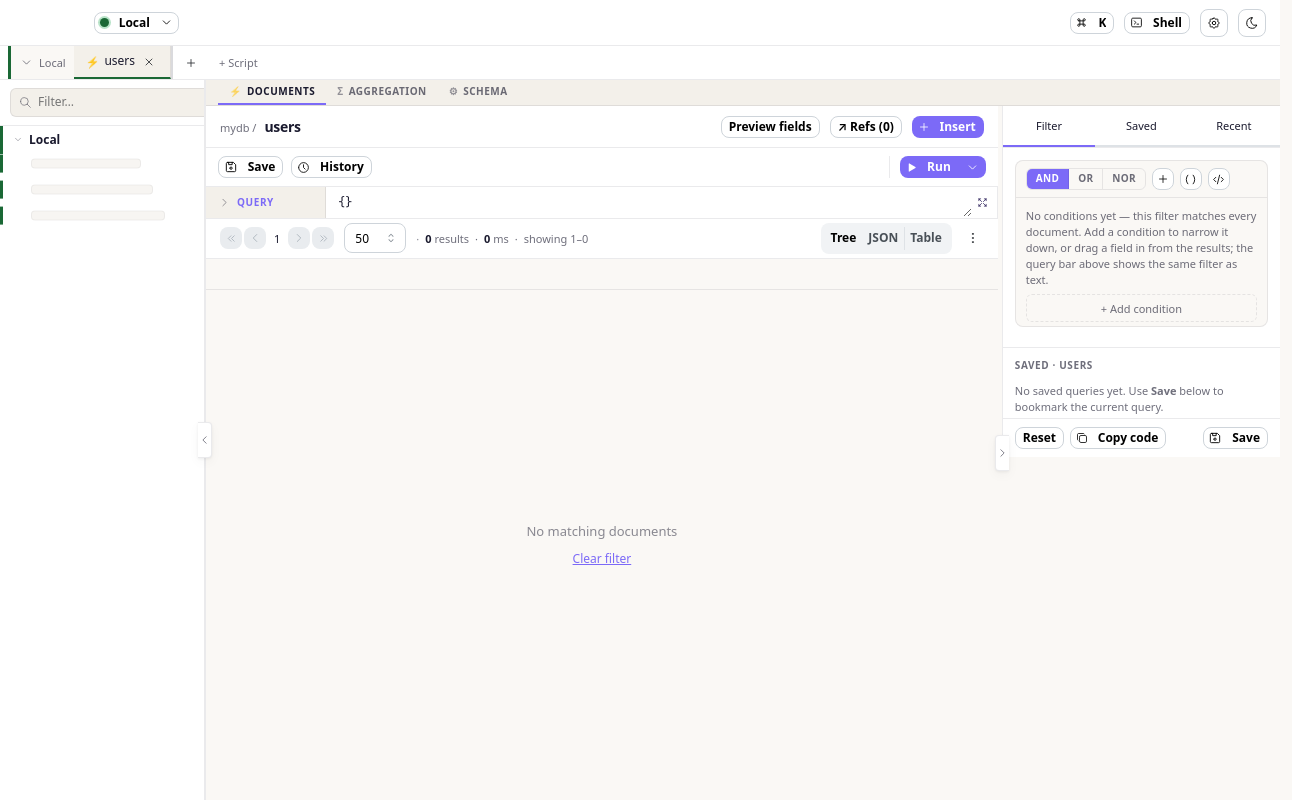
Test case: Filter drawer — pending-row lifecycle (W13 §5, §11) › "+ Raw" adds a row that persists on screen and does not change queryRaw
The width and height of the screenshot is (1292, 800).
Click the button named "Add raw clause".
click(1219, 179)  # box [1208, 168, 1230, 190]
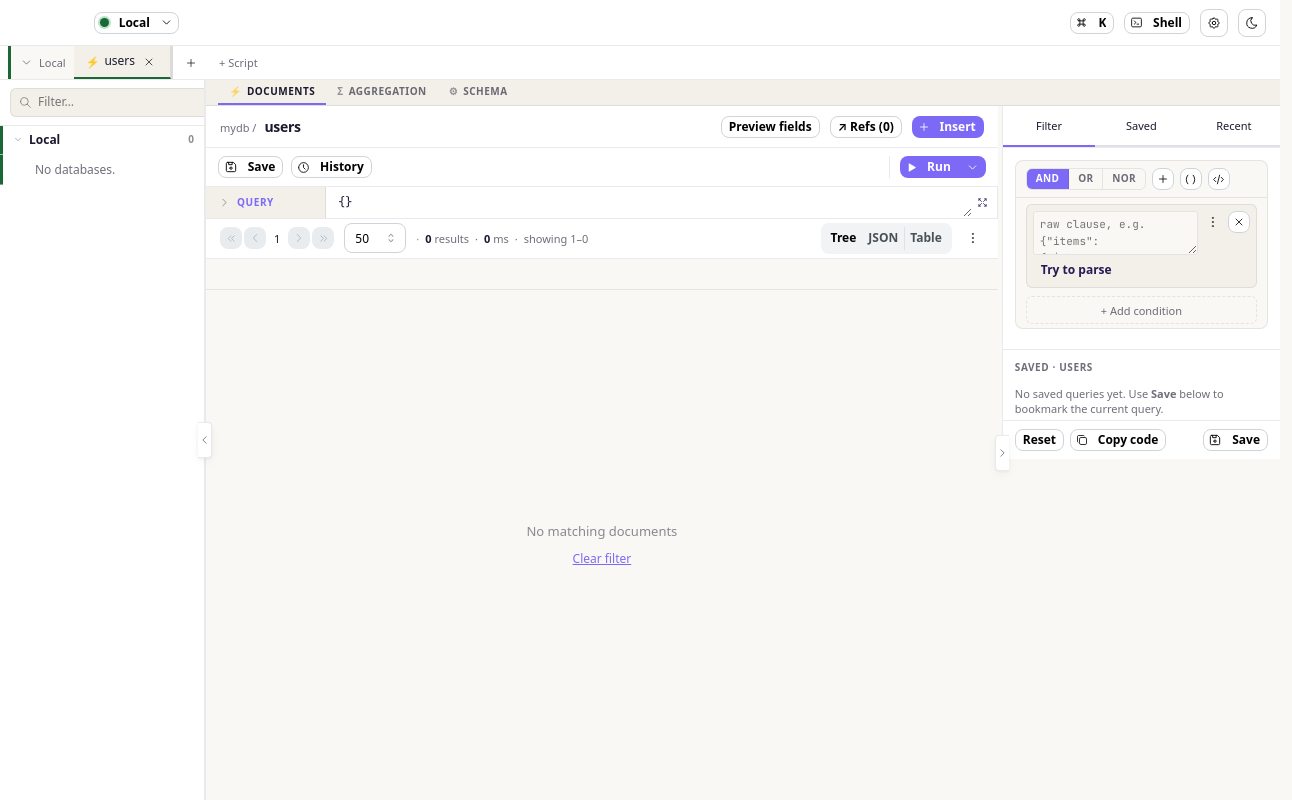
Check: the text box with test id "query-bar-input" holds "{}", box [330, 187, 972, 218]
Check: the text box labelled "raw clause" is shown, box [1033, 211, 1198, 255]
